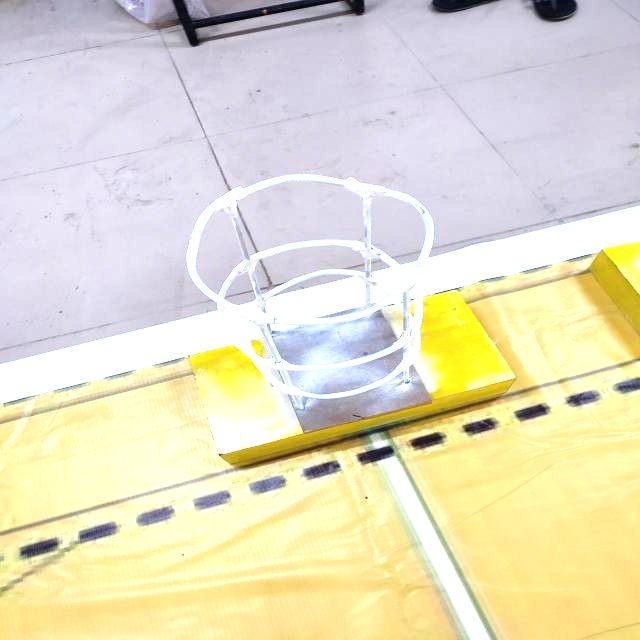silo: (165, 157, 457, 431)
